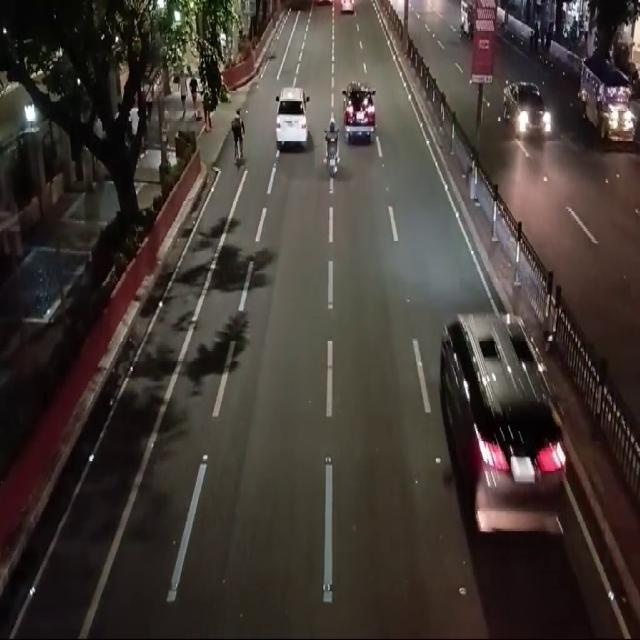car: (418, 295, 582, 573), (499, 73, 556, 153), (270, 70, 314, 164), (339, 75, 381, 160)
jeepney: (570, 35, 639, 159)
motorcycle: (322, 111, 344, 181)
